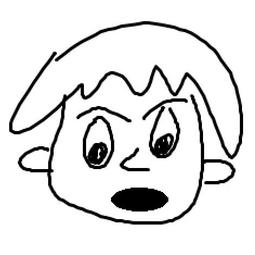ear: (12, 142, 53, 177), (195, 155, 238, 188)
eye: (80, 114, 115, 174), (147, 105, 184, 157)
eyebrow: (72, 101, 133, 124)
frowning_eyebrow: (142, 98, 188, 120)
nose: (118, 145, 150, 173)
open_mouth: (106, 184, 173, 214)
